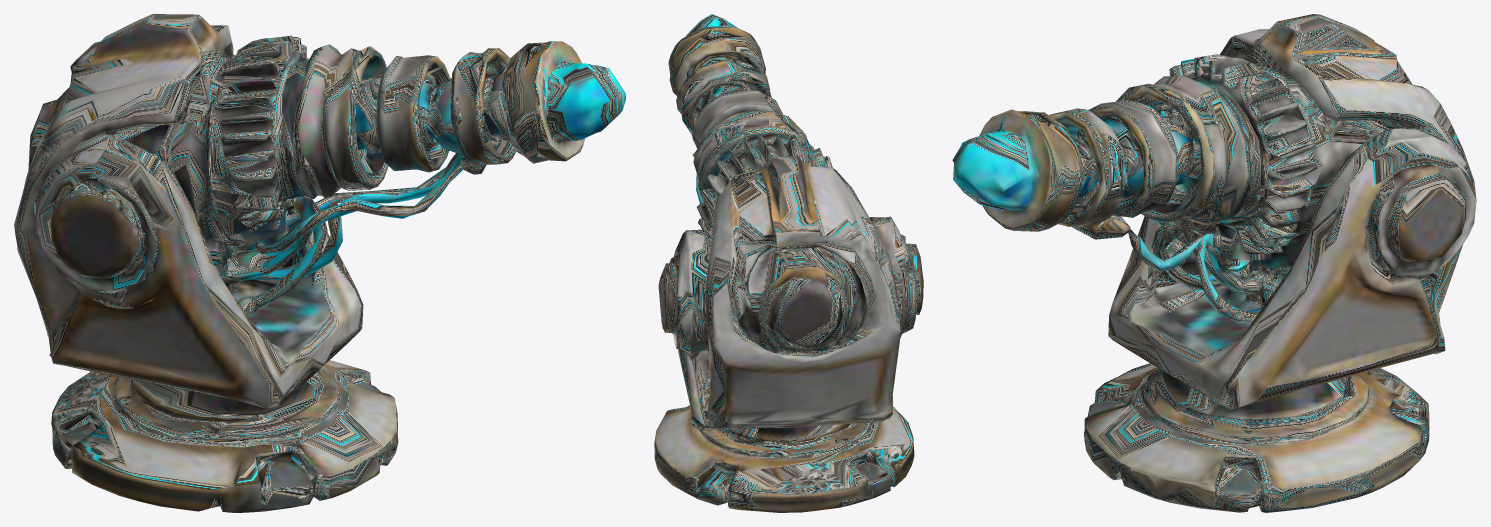
3 views of the same model, side by side, from view 1: azimuth 30°, elevation 25°; view 2: azimuth 150°, elevation 25°; view 3: azimuth 270°, elevation 25° (orthographic). The views are drawn at different scales.
Size of the model in its own units: 0.96 by 0.8956 by 0.9959.
1 material, 1 textured.
